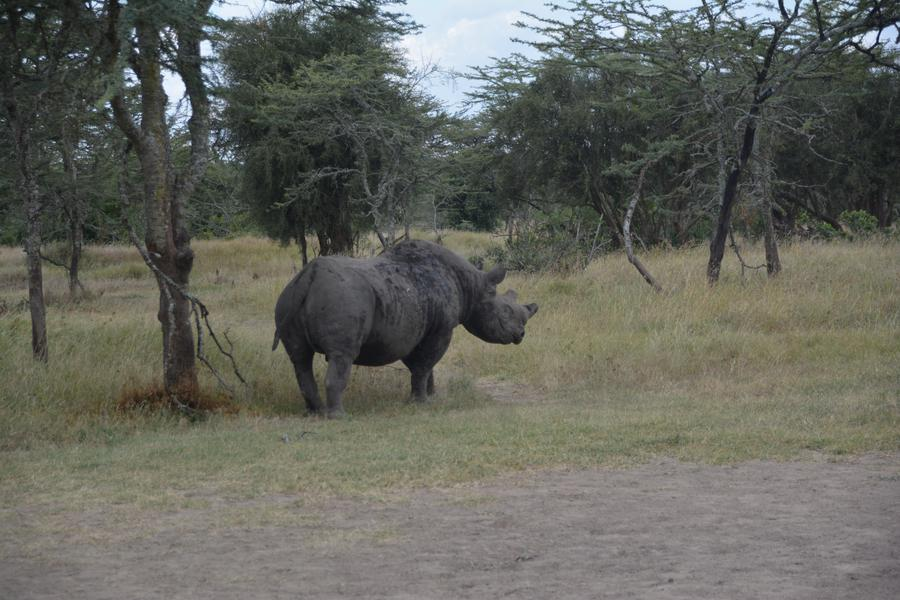rhino: (265, 231, 542, 404)
